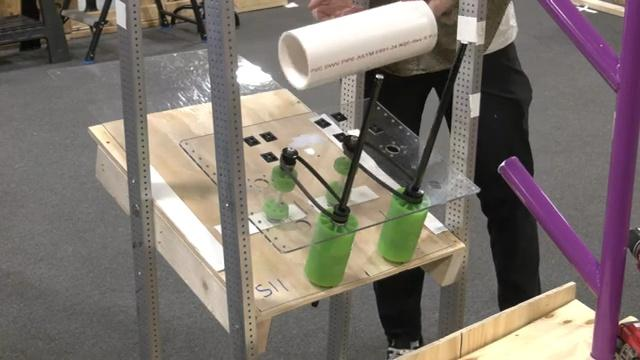CORAL: (276, 0, 439, 91)
